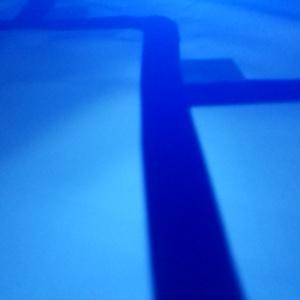top_right: (142, 59, 247, 106), (23, 5, 88, 29)
